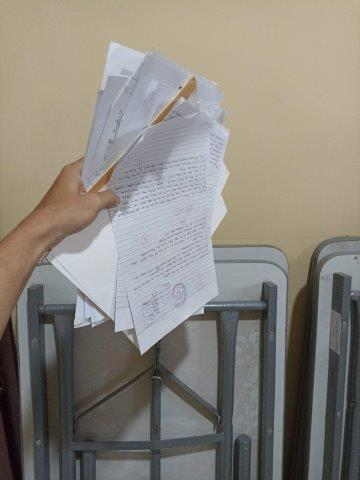kertas: (48, 43, 230, 353)
